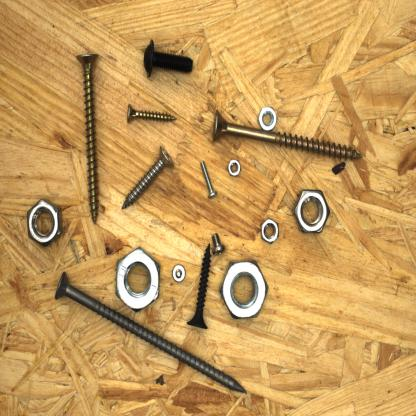screw: (52, 270, 248, 396), (211, 108, 365, 160), (74, 50, 102, 226), (120, 141, 177, 213), (187, 242, 214, 332), (142, 37, 194, 81), (125, 102, 178, 127), (199, 158, 218, 202), (211, 231, 226, 257)
